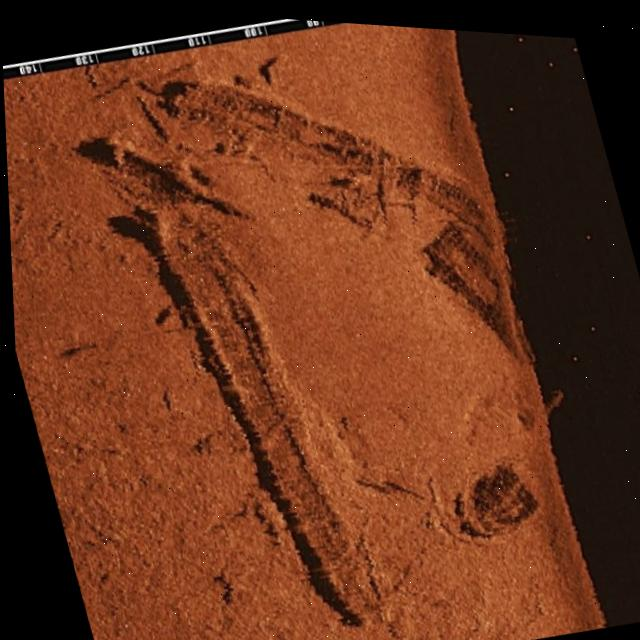shipwreck: (164, 12, 533, 409), (146, 178, 376, 640)
